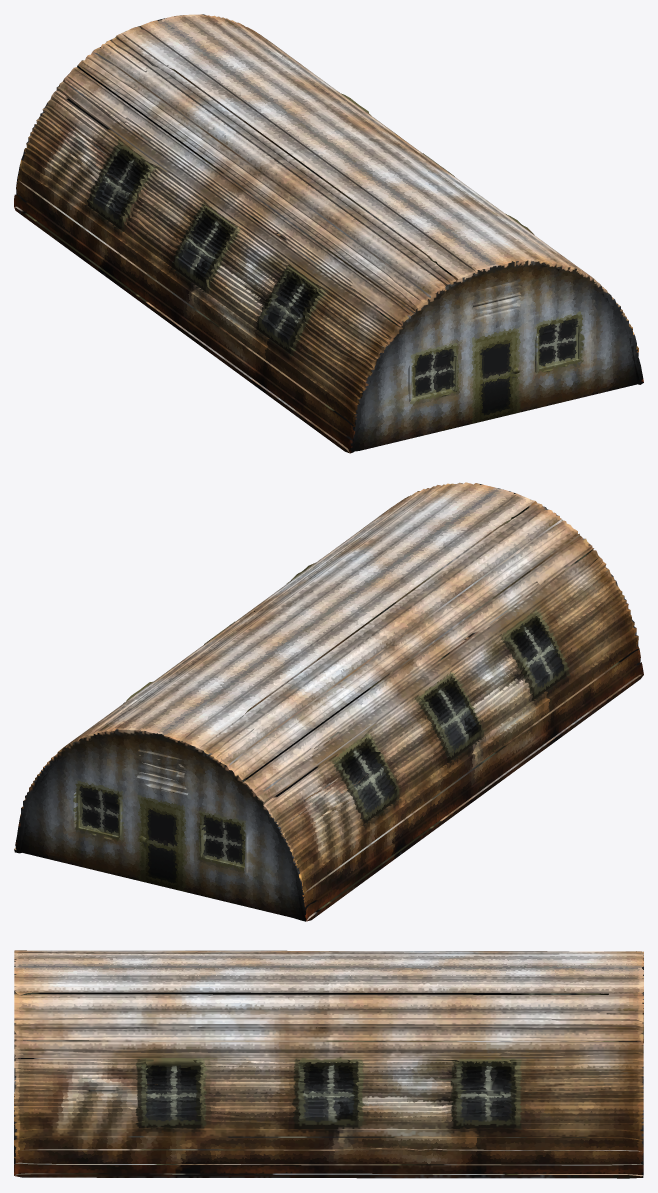
Rendered from quonset_hd.glb.
The picture shows the model from 3 angles, top to bottom: view 1: azimuth 30°, elevation 25°; view 2: azimuth 150°, elevation 25°; view 3: azimuth 270°, elevation 25°; orthographic projection. The views are drawn at different scales.
Visible parts, largest first — view 1: hd_body; view 2: hd_body; view 3: hd_body.
Part boxes in pixels (x1,y1,x2,y2): hd_body: [14, 14, 643, 453]; hd_body: [14, 482, 643, 921]; hd_body: [14, 950, 643, 1178].
Bounding box in the file's own units: 8.53 × 4.25 × 16.86.
Materials: 1 (1 with a texture image).
